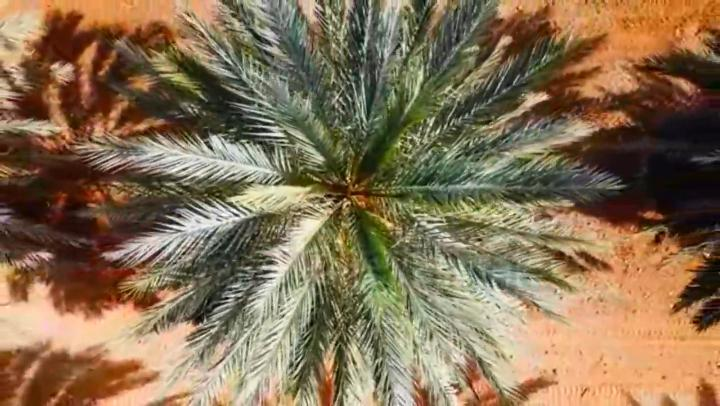Date-Palm-Crown: (220, 51, 490, 325)
